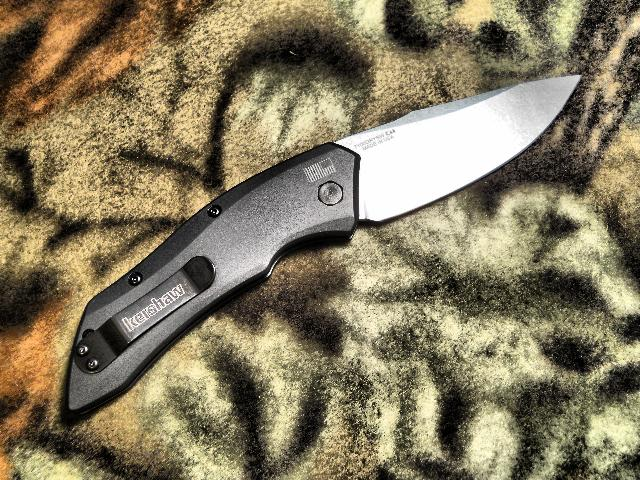knife: (296, 64, 602, 232)
